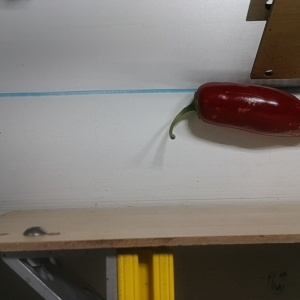Cut Point: (186, 82, 215, 125)
